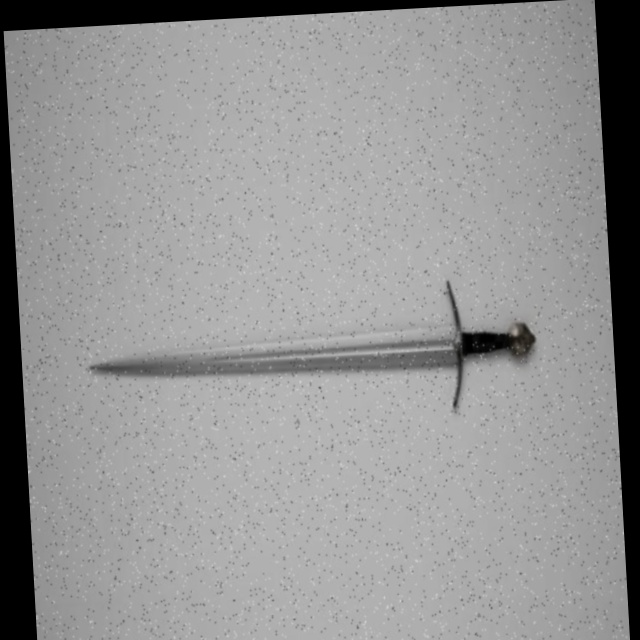Sharp-Object: (73, 305, 547, 396)
